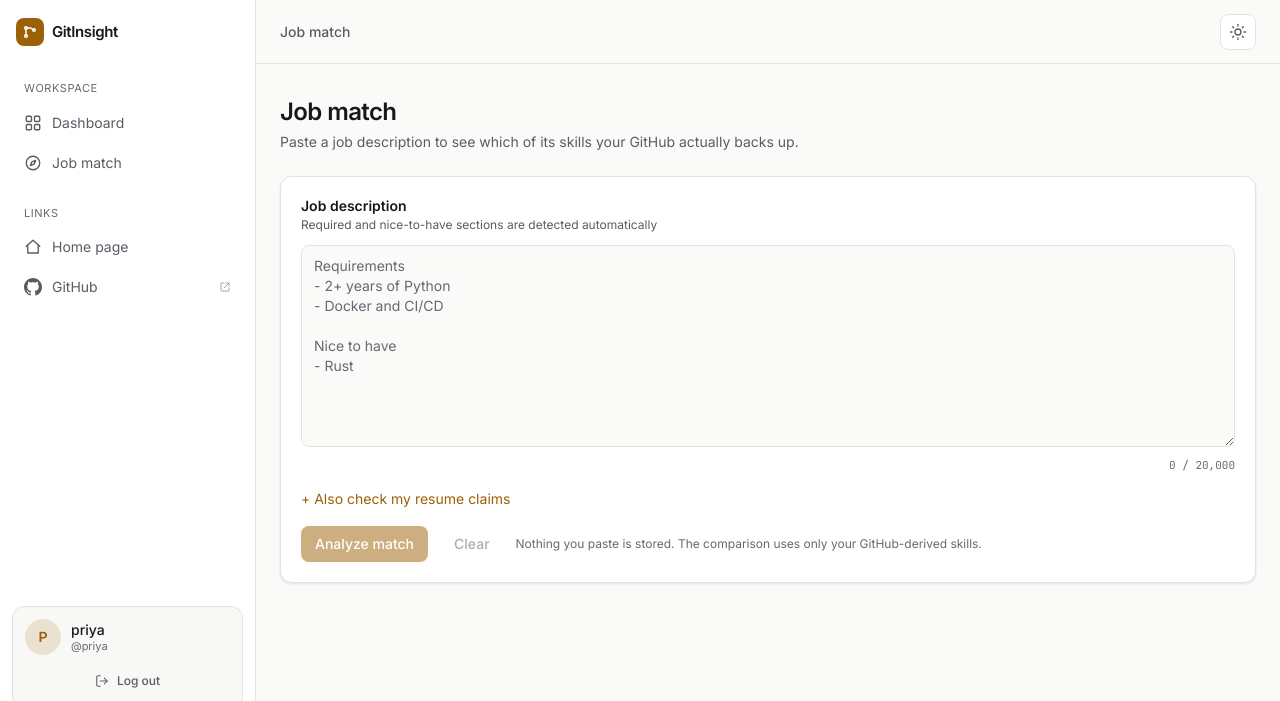
it: JobMatch page › sends the resume only when the resume box is open and filled
Replace the text in the text box named "Job description" with "We need a Python developer with Docker experience". click: (768, 346)
box: [301, 244, 1235, 446]
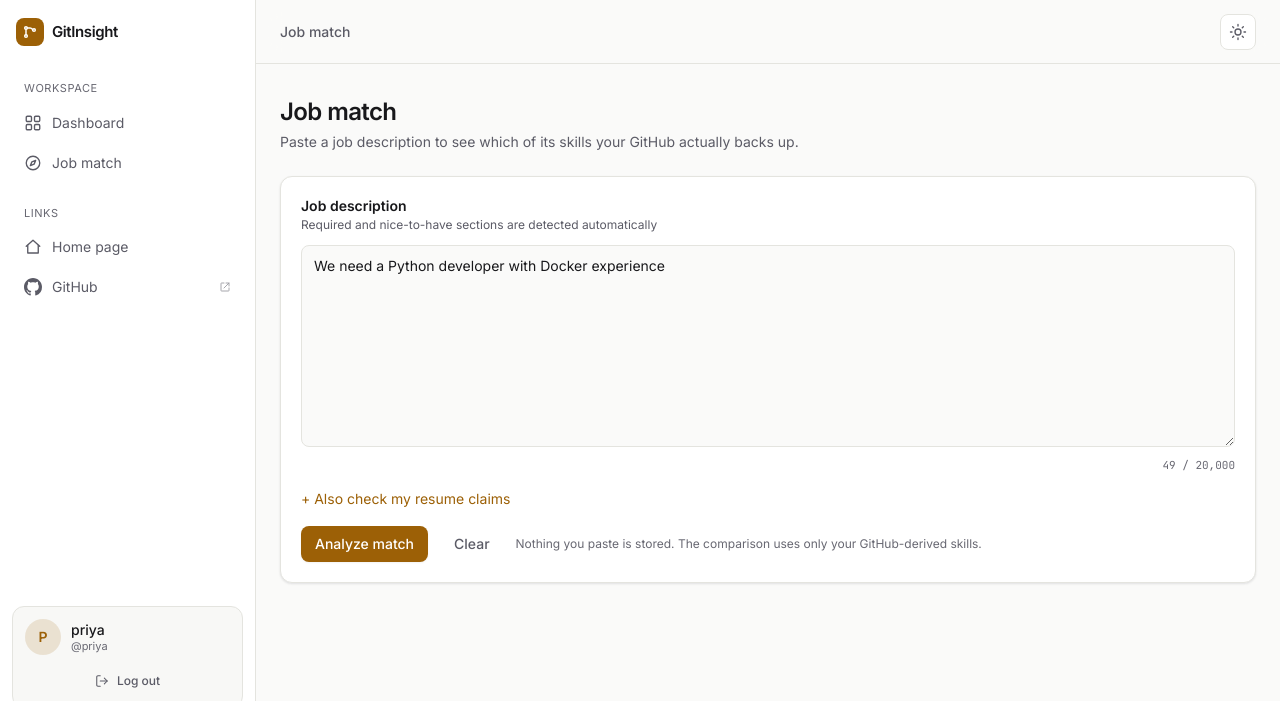
Click the button "+ Also check my resume claims". click: click(406, 499)
box: [301, 489, 510, 509]
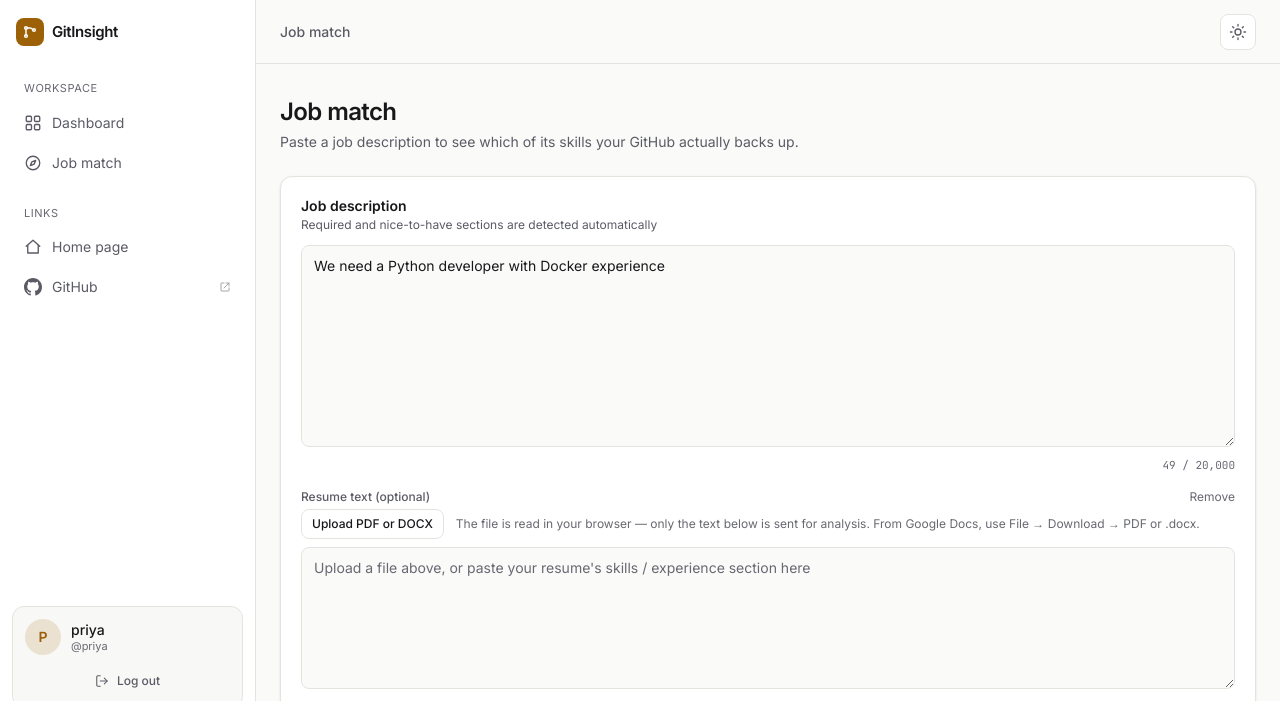
Replace the text in the text box labelled "Resume text (optional)" with "Python, Go". click: (768, 618)
box: [301, 547, 1235, 689]
(page scrolled)
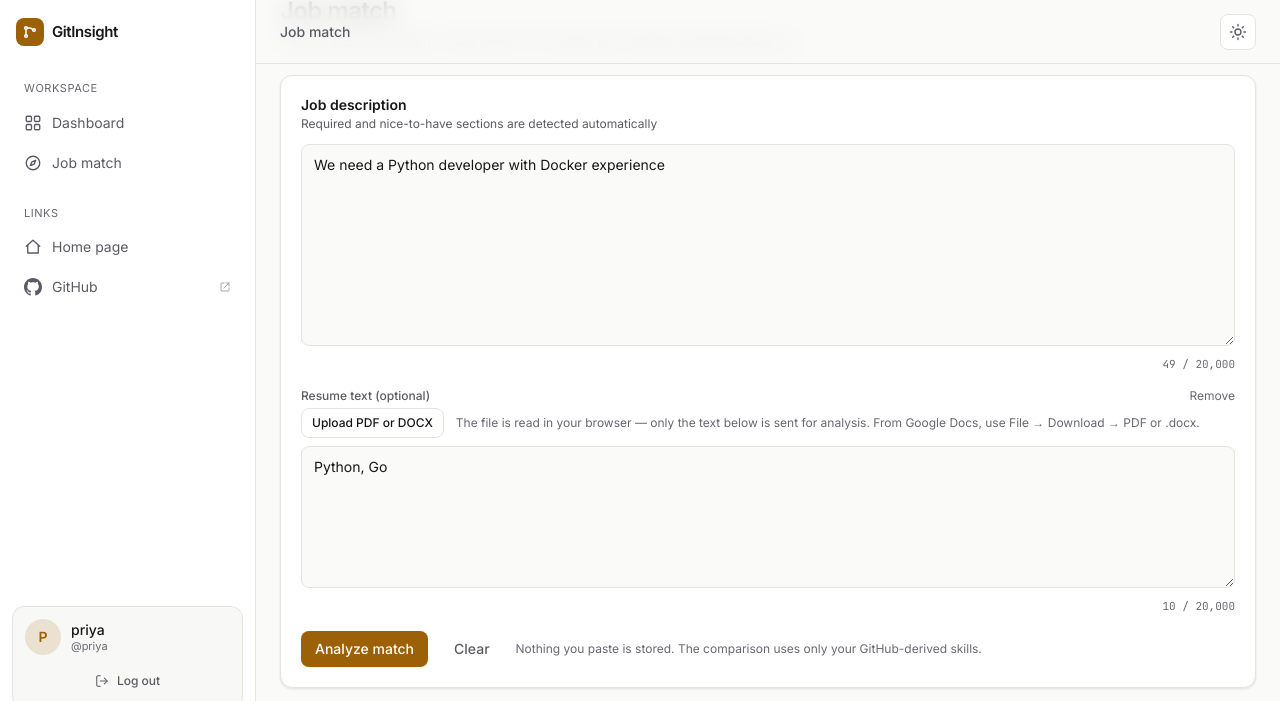
Click the button "Analyze match". click: click(364, 648)
box: [301, 630, 428, 666]
(page scrolled)
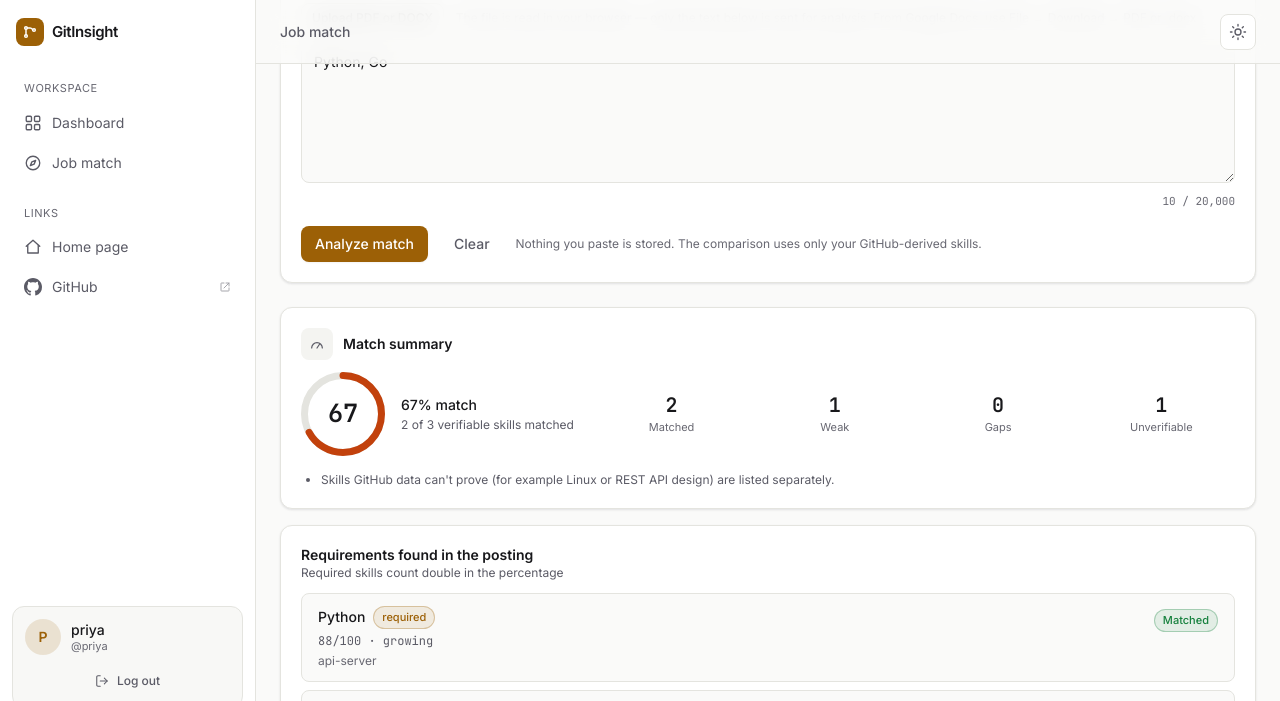
Expected: the text "67% match" is shown, [401, 396, 477, 412]
